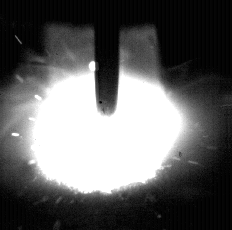arame: (95, 0, 121, 117)
poca: (33, 0, 183, 230)
